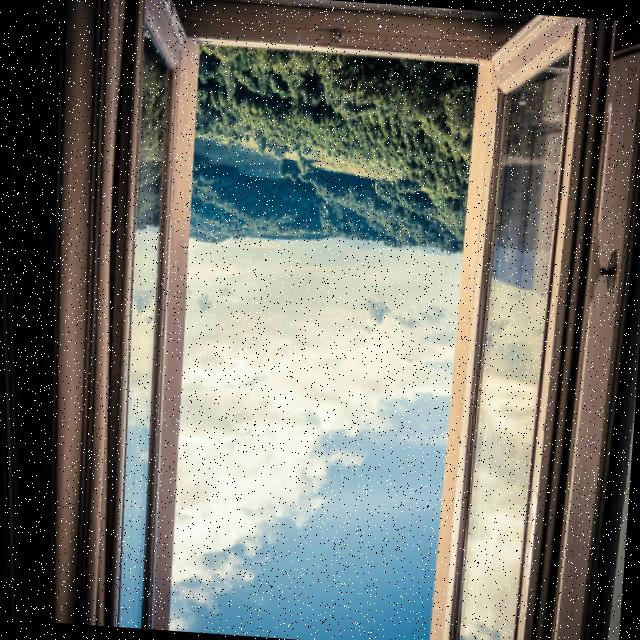Window: (103, 0, 617, 640)
